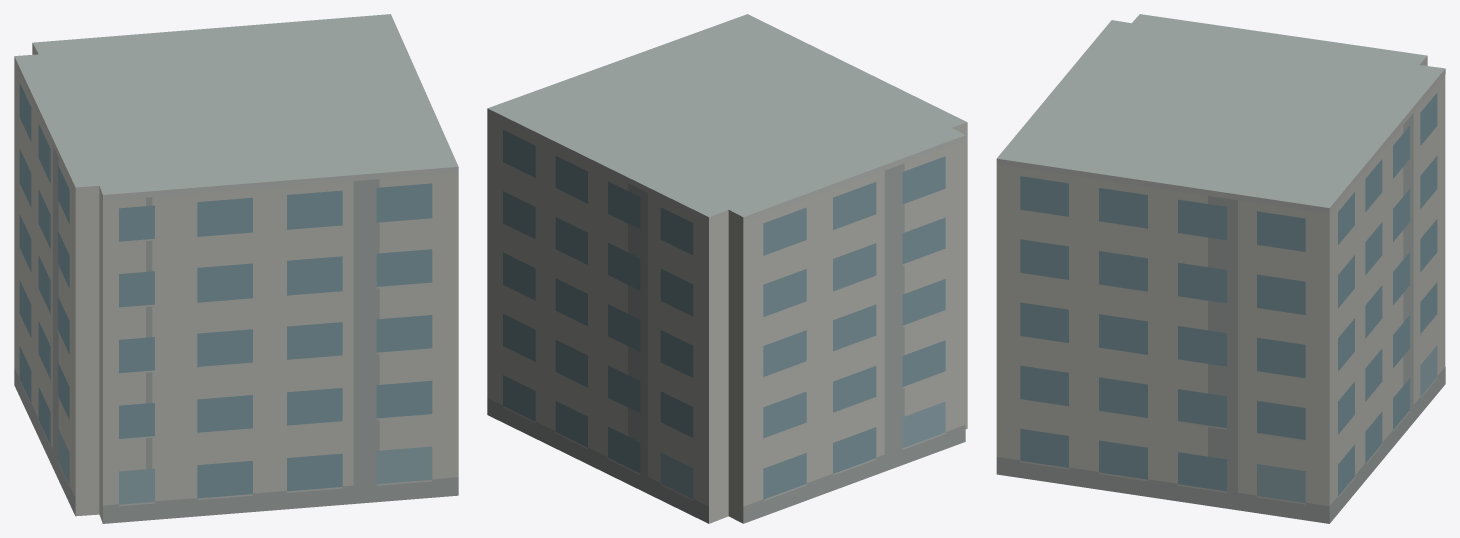
Rendered from survey-upis-32852772.glb.
The picture shows the model from 3 angles, left to right: view 1: azimuth 30°, elevation 25°; view 2: azimuth 150°, elevation 25°; view 3: azimuth 270°, elevation 25°; orthographic projection. The views are drawn at different scales.
Parts seen in each view (by area): view 1: survey-upis-32852772.tmp; view 2: survey-upis-32852772.tmp; view 3: survey-upis-32852772.tmp.
Part boxes in pixels (<box>): survey-upis-32852772.tmp: <box>14,14,458,523</box>; survey-upis-32852772.tmp: <box>487,14,967,523</box>; survey-upis-32852772.tmp: <box>996,14,1445,523</box>.
Size of the model in its own units: 17.41 by 13.2 by 17.02.
